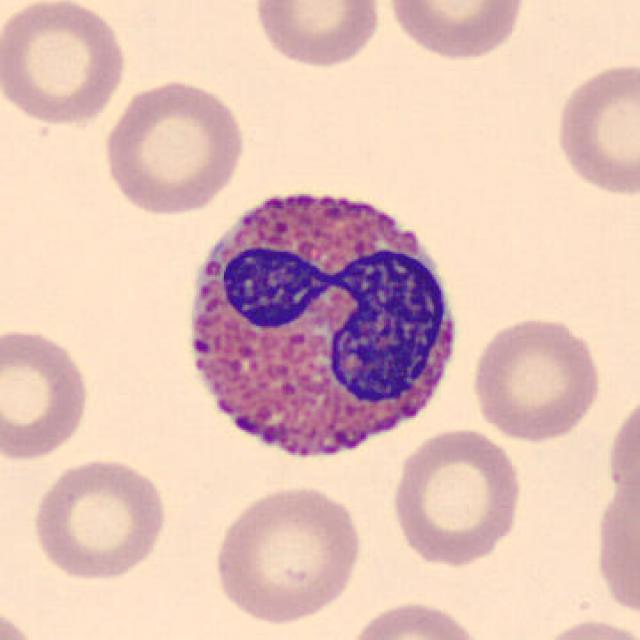Eosinophil: (167, 160, 471, 487)
RBC: (208, 481, 366, 626), (98, 76, 249, 217), (388, 423, 526, 568), (26, 453, 170, 582), (468, 312, 604, 444), (0, 0, 132, 129), (0, 322, 94, 466), (550, 56, 638, 201), (249, 0, 386, 71), (382, 0, 529, 63), (590, 451, 638, 624), (343, 597, 487, 640), (604, 384, 640, 526), (528, 615, 640, 640), (0, 601, 44, 640)
